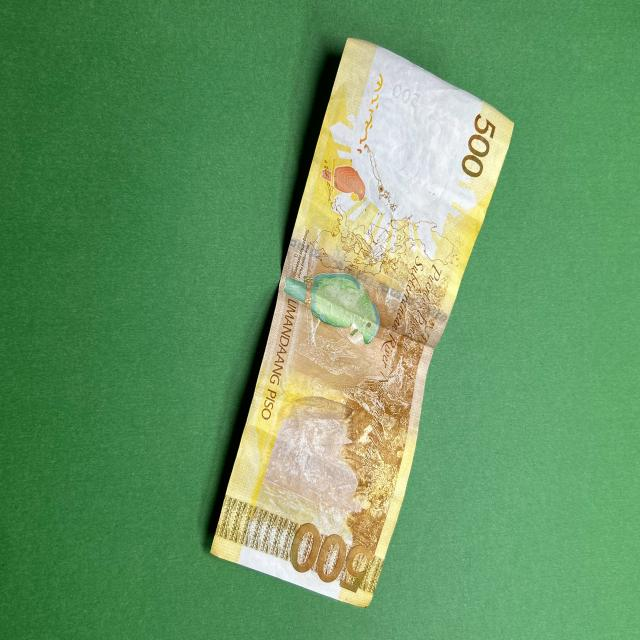security_thread: (287, 224, 455, 331)
value: (278, 521, 373, 604)
value_watermark: (386, 66, 433, 115)
